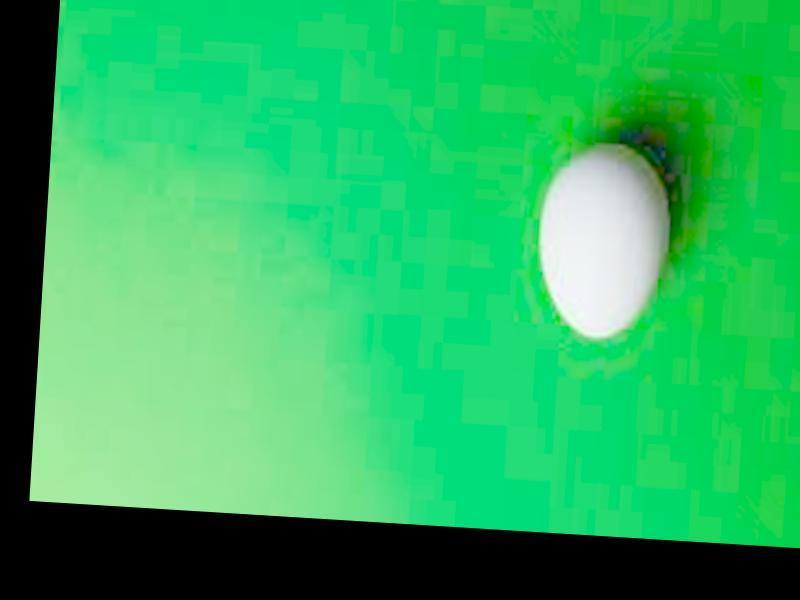Eggs: (536, 140, 673, 343)
